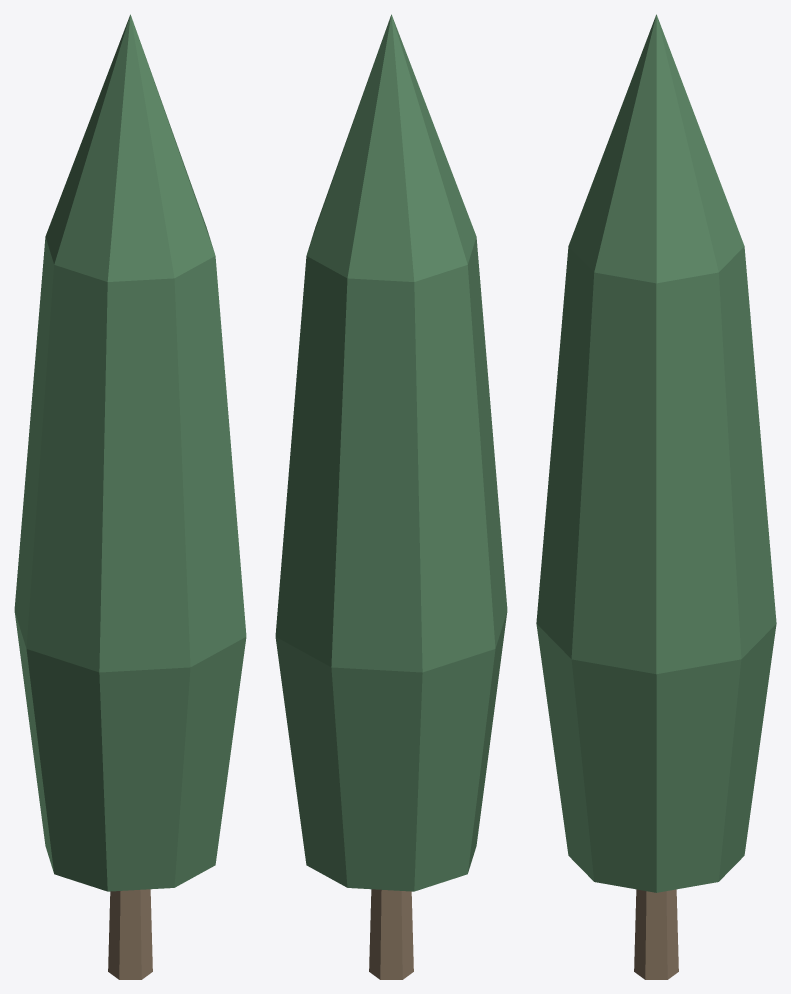
File: VN_Cipres.fbx
3 views of the same model, side by side, from view 1: azimuth 30°, elevation 25°; view 2: azimuth 150°, elevation 25°; view 3: azimuth 270°, elevation 25° (orthographic).
Visible parts, largest first — view 1: VN_Cipres; view 2: VN_Cipres; view 3: VN_Cipres.
Part boxes in pixels (left/top/right/bottom): VN_Cipres: left=14, top=14, right=246, bottom=979; VN_Cipres: left=275, top=14, right=507, bottom=979; VN_Cipres: left=536, top=14, right=776, bottom=979.
Size of the model in its own units: 1.5 by 6.6 by 1.5.
